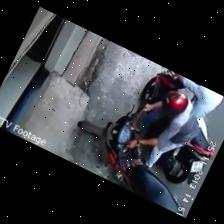person: (128, 91, 200, 168), (175, 73, 223, 140)
